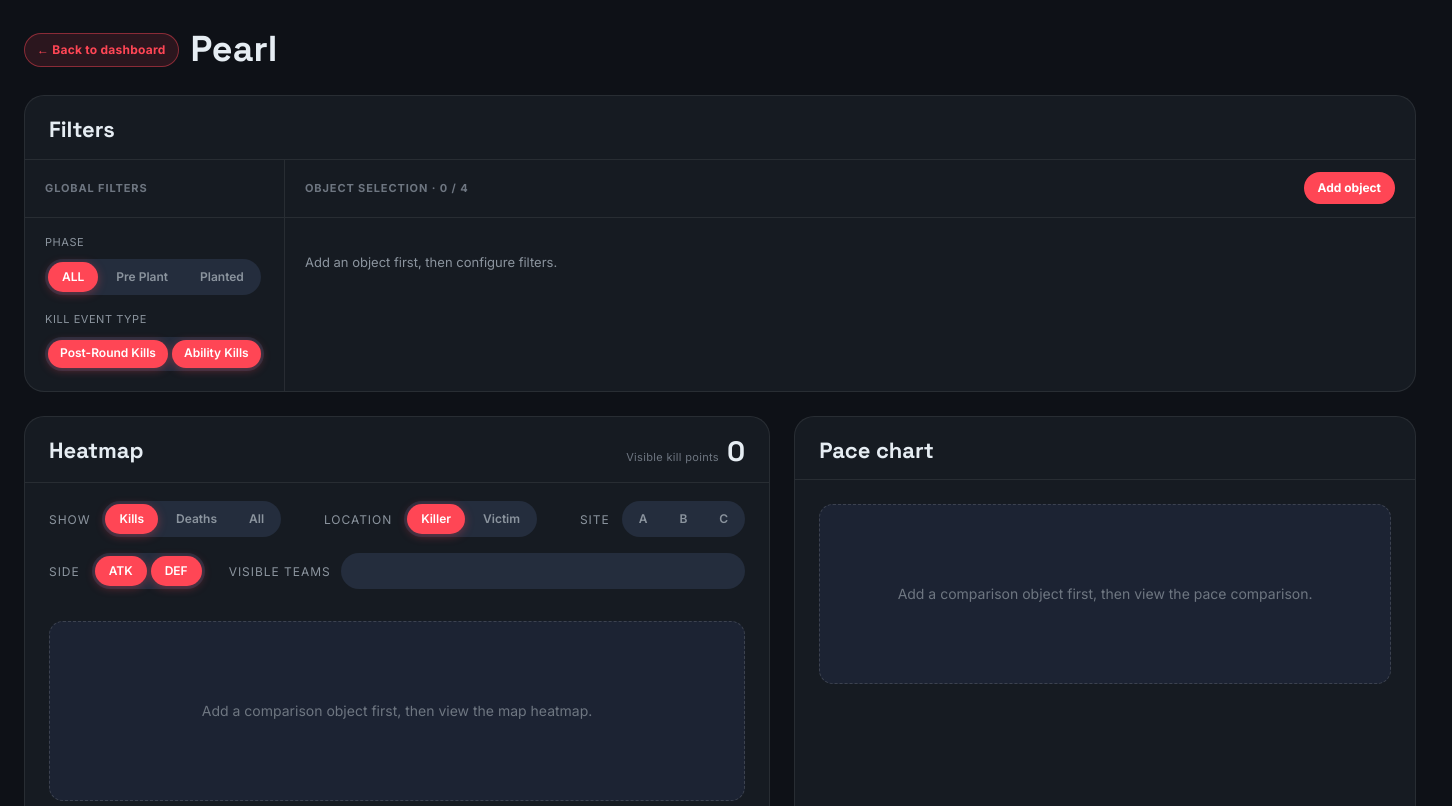
Scenario: supports adding and capping compare objects at four
Expected: the text "Add an object first, then configure filters." is shown, [305,252,557,272]
Click the button "Add object": [1349, 188] box [1304,172,1395,204]
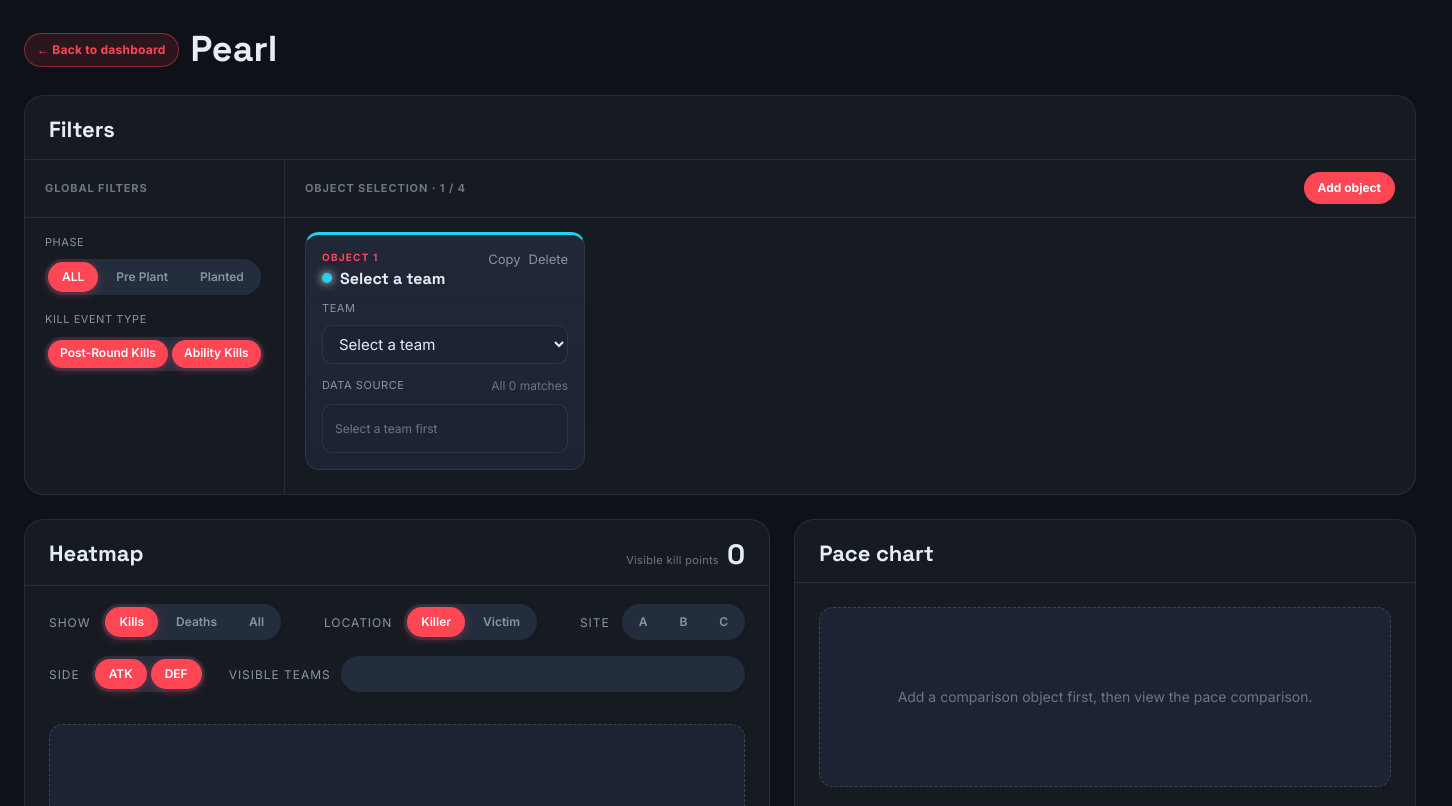
Click the button "Add object": [1349, 188] box [1304,172,1395,204]
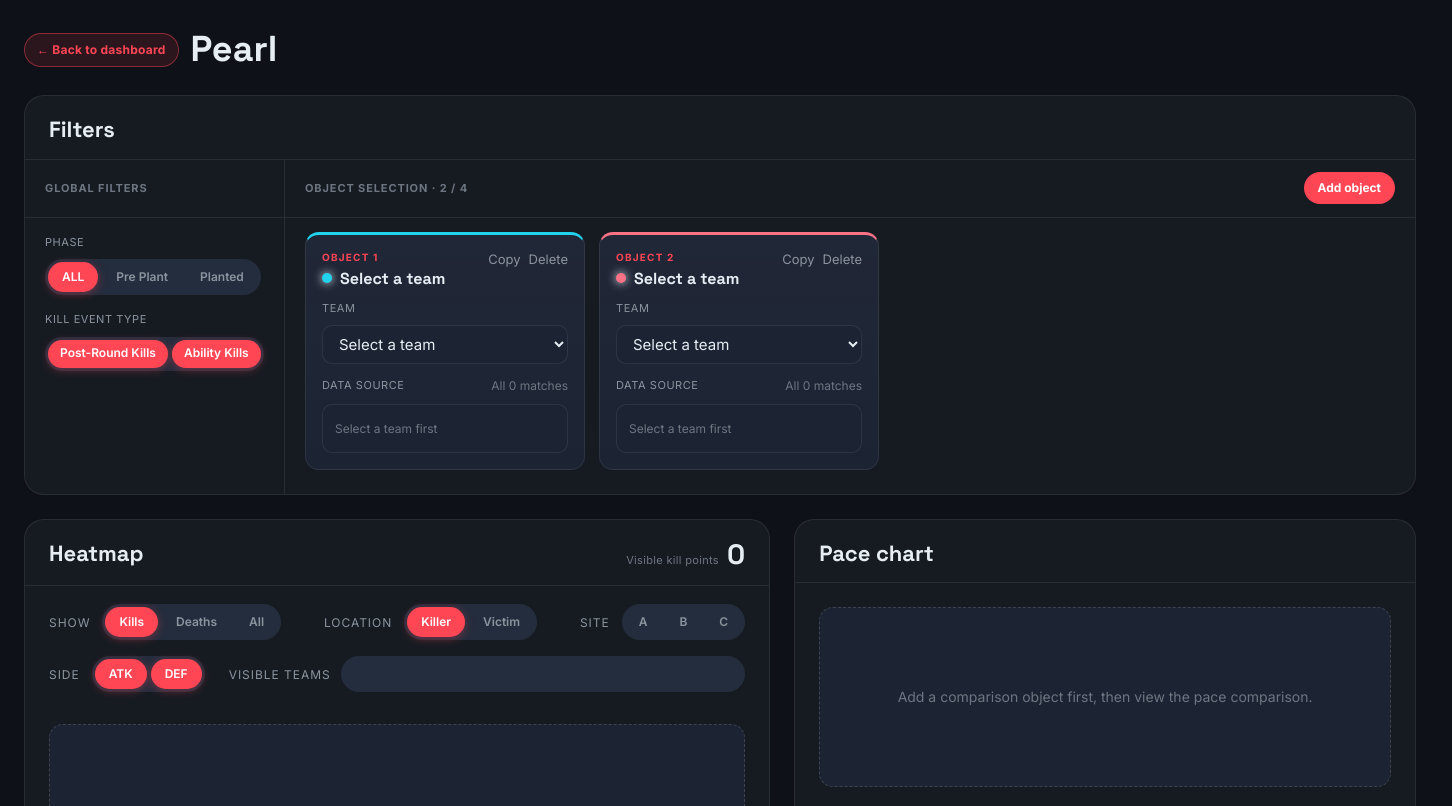
Click the button "Add object": [1349, 188] box [1304,172,1395,204]
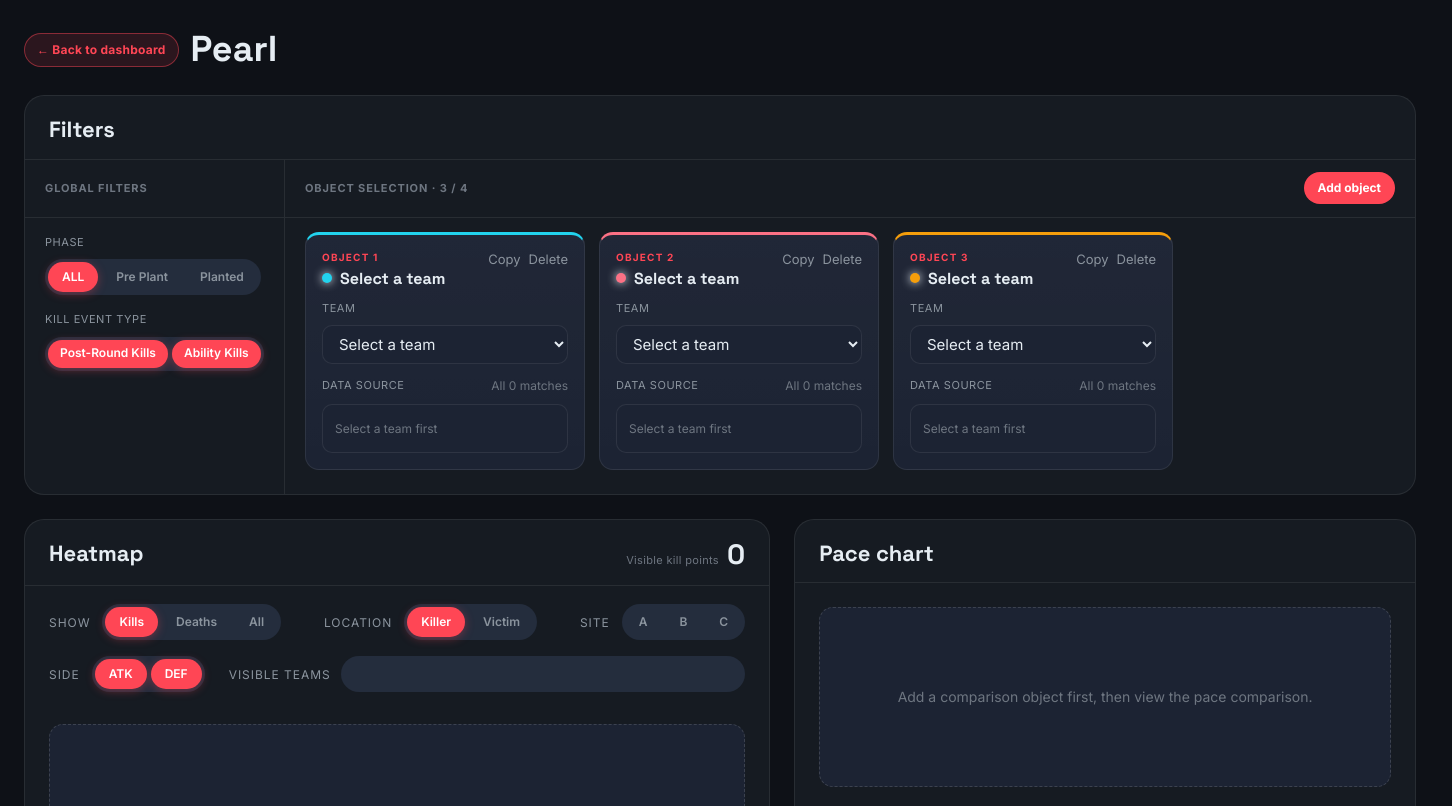
Click the button "Add object": [1349, 188] box [1304,172,1395,204]
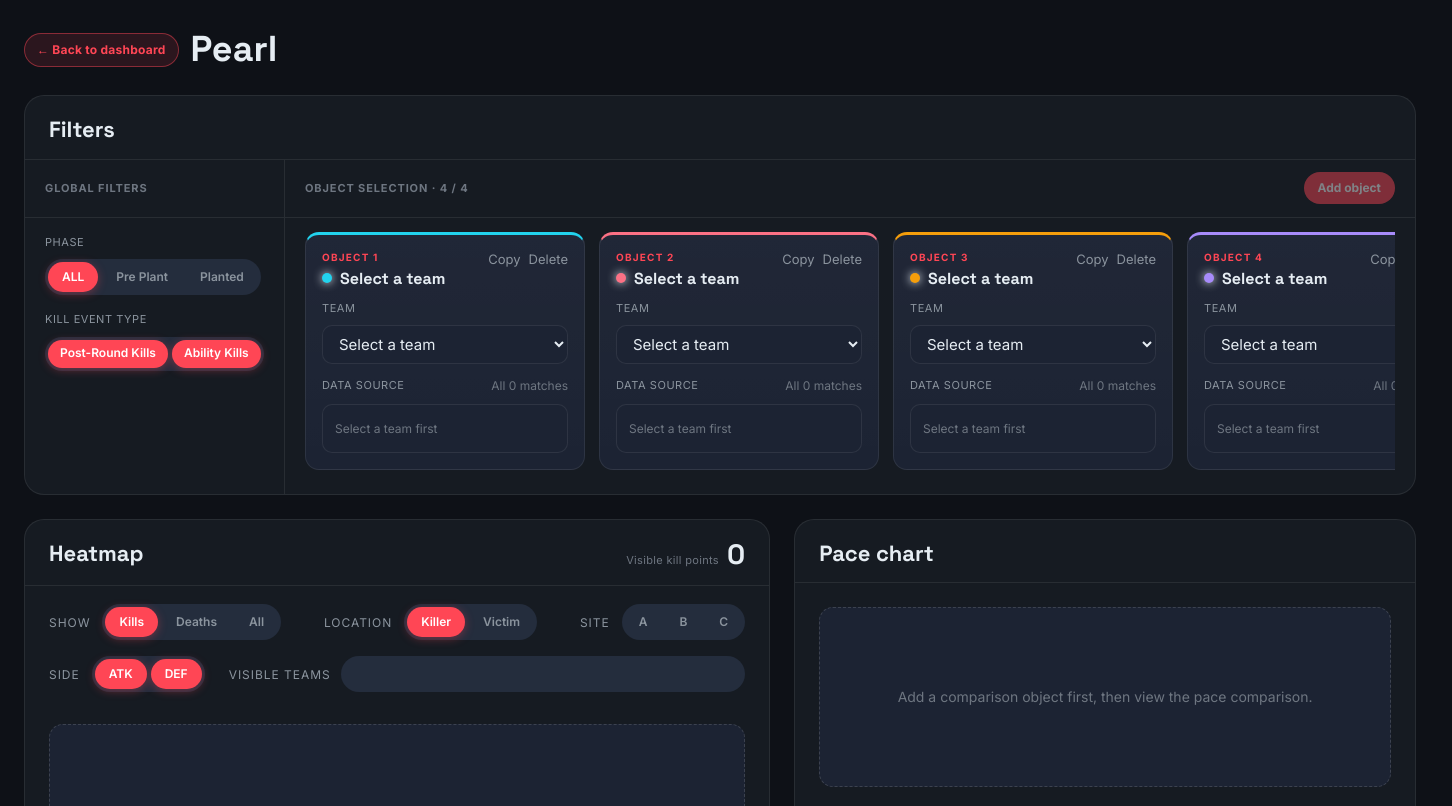
Expected: the text "Object selection · 4 / 4" is shown, [305,181,469,195]
Expected: the button "Add object" is disabled, [1304,172,1395,204]
